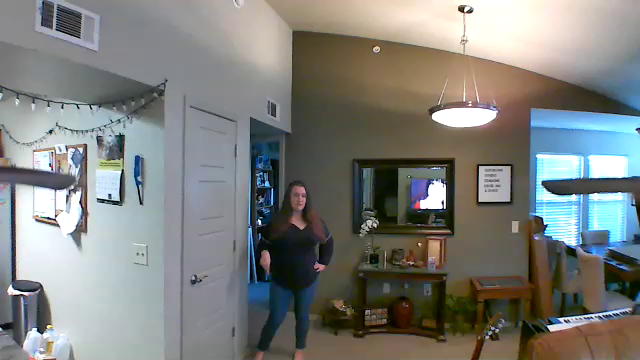down: (258, 245, 272, 277)
